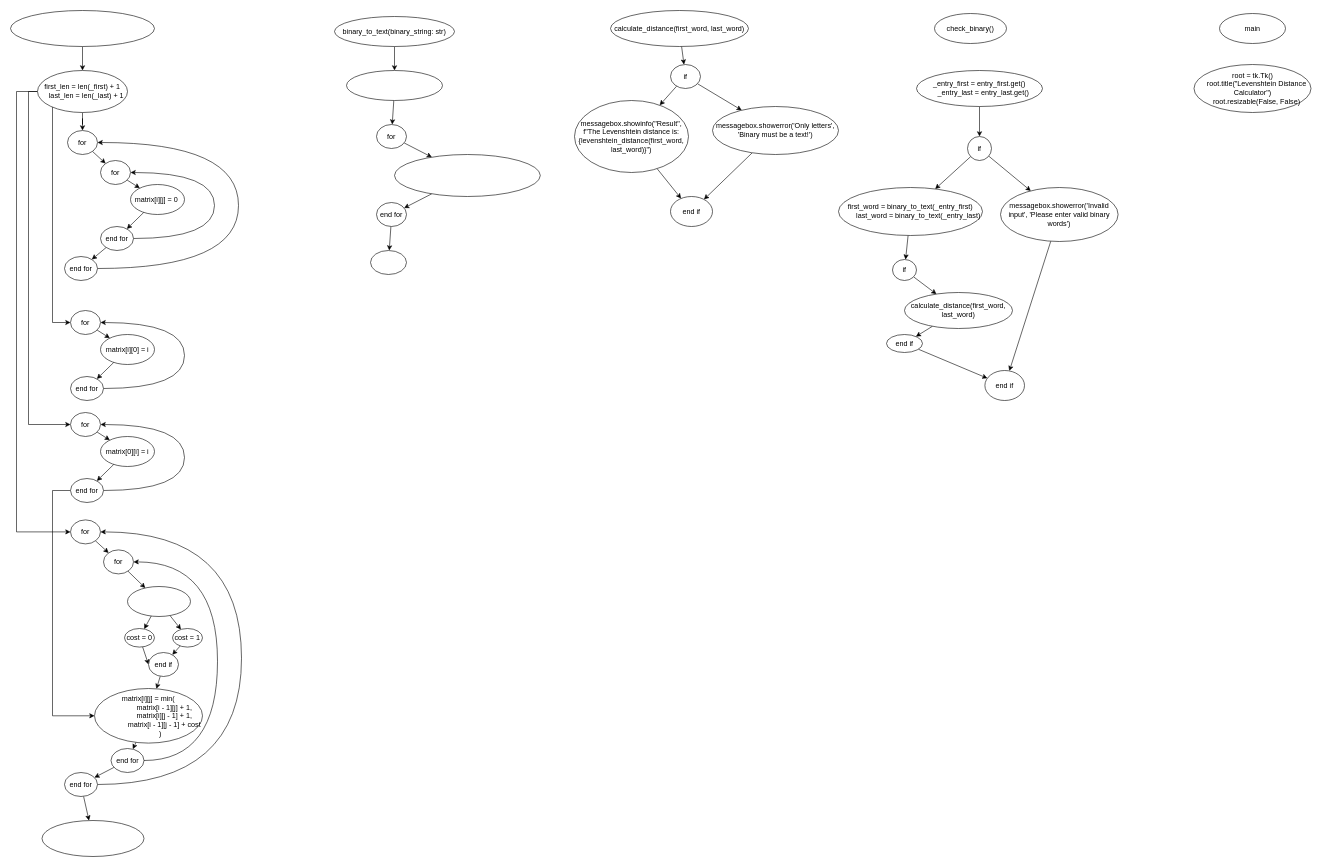
Image size: 1322x867. Some labels were removed from this diagram. The centre of each missing label's shape, as x and y in pixels:
''.join(chr(int(binary_string[i * 8:i * 8 + 8], 2)): [467,175]
binary_string.replace(" ", ""): [394,85]
if _first[i - 1] == _last[j - 1: [158,601]
levenshtein_distance(_first: str, _last: str): [82,28]
return: [388,262]
return matrix[first_len - 1][last_len - 1]: [92,838]
